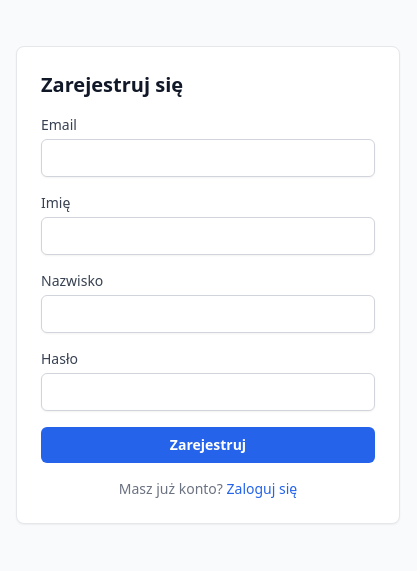
Test: SignupPage (integration) › displays an error message when signup fails
The width and height of the screenshot is (417, 571).
In the field labelled "Email": {"x": 208, "y": 158} [41,139,375,177], type "exists@example.com"
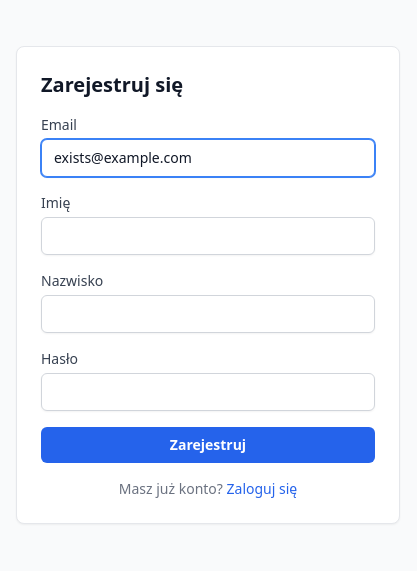
In the password field labelled "Hasło": {"x": 208, "y": 392} [41,373,375,411], type "password123"
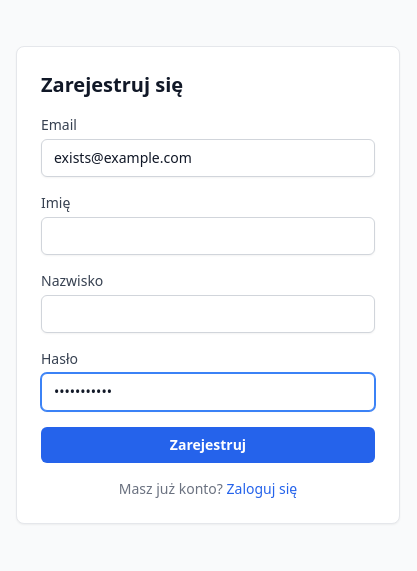
In the field labelled "Imię": {"x": 208, "y": 236} [41,217,375,255], type "Anna"
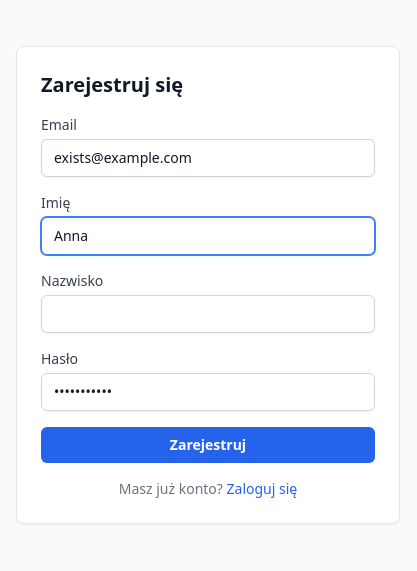
In the field labelled "Nazwisko": {"x": 208, "y": 314} [41,295,375,333], type "Nowak"
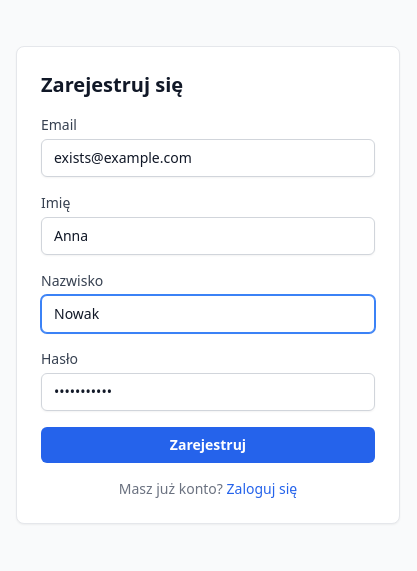
Click the button "Zarejestruj": {"x": 208, "y": 445} [41,427,375,463]
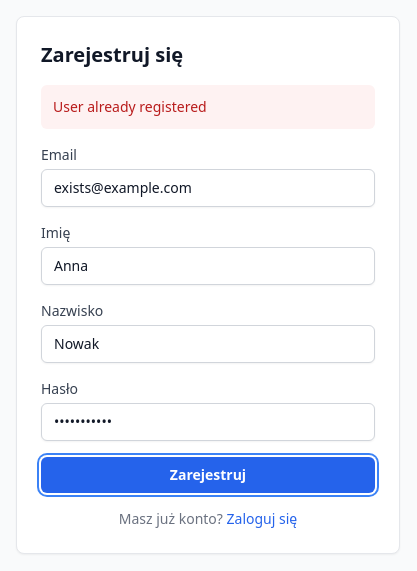
Check: the text "User already registered" is shown, box [41,85,375,129]
